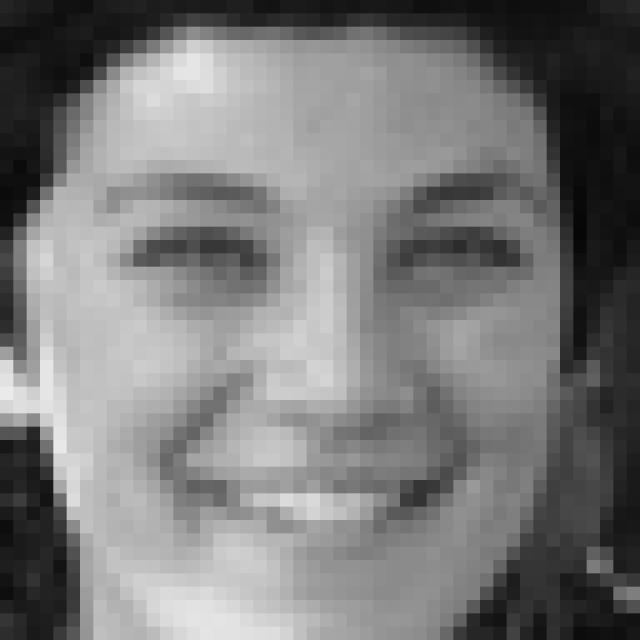happy: (95, 164, 550, 578)
